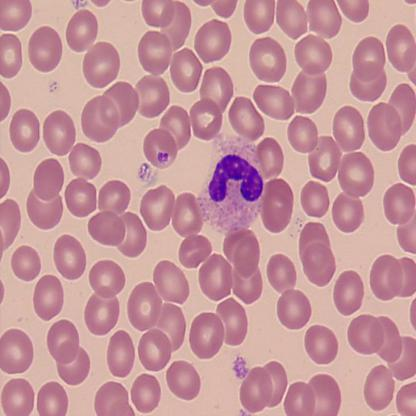Band Neutrophil: (195, 127, 265, 242)
